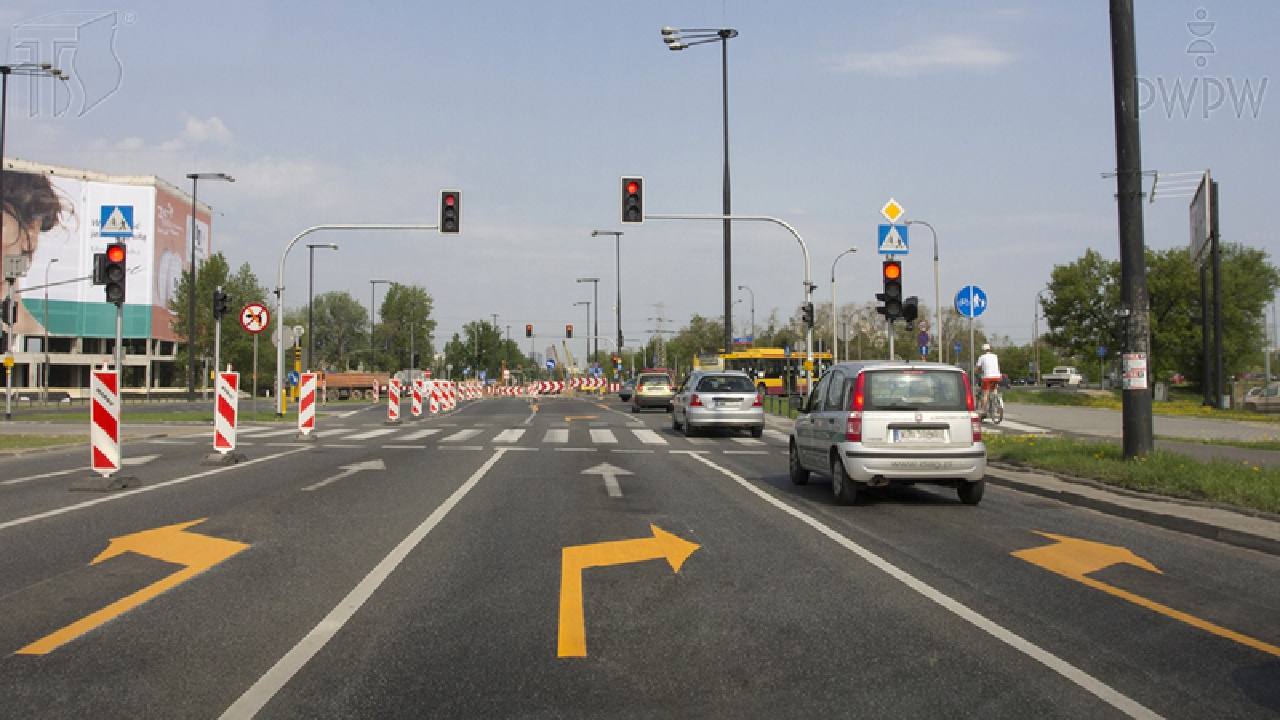D1: (879, 197, 906, 223)
Red: (107, 242, 125, 301), (883, 261, 902, 316), (625, 179, 640, 221), (443, 192, 456, 233)
